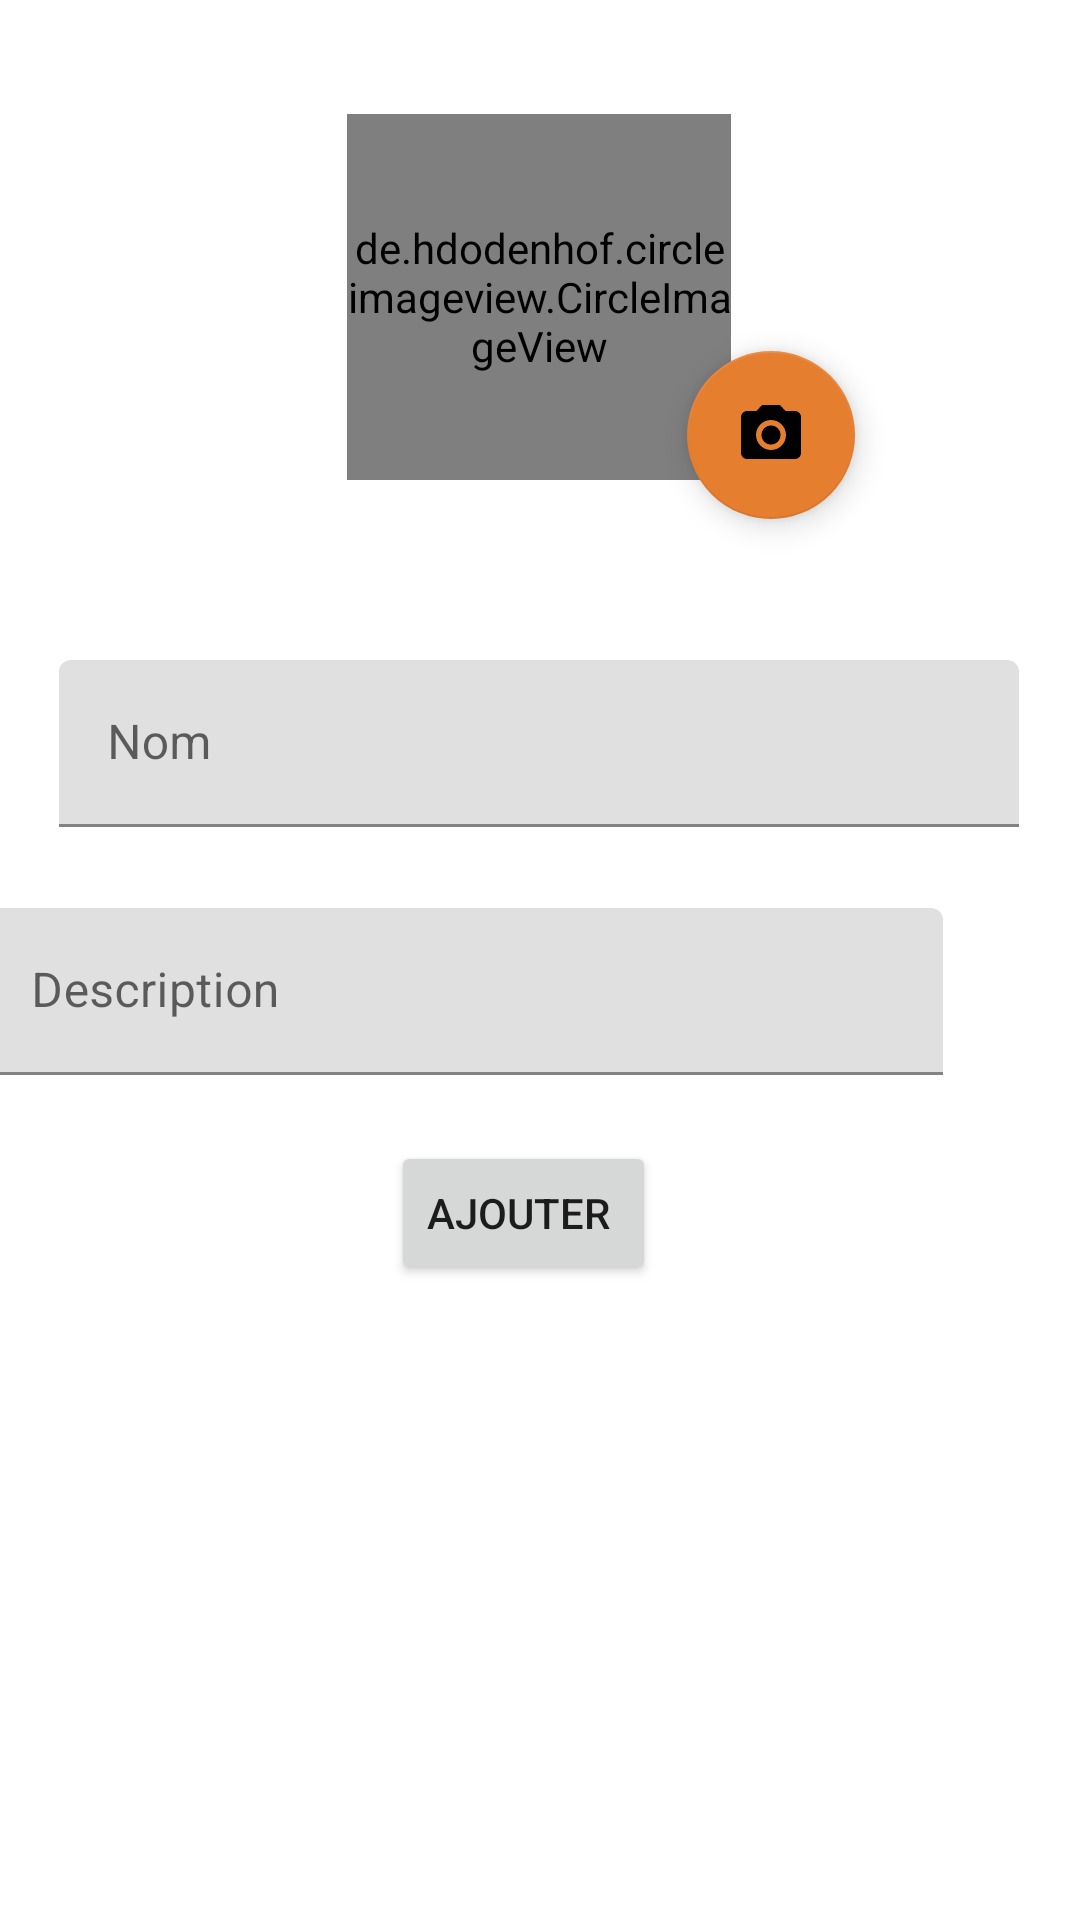

Screen size 1080px×1920px. Icon name, then its box in pixels as BBox(x1, y1, x2, y2):
photo camera: BBox(687, 351, 855, 519)
